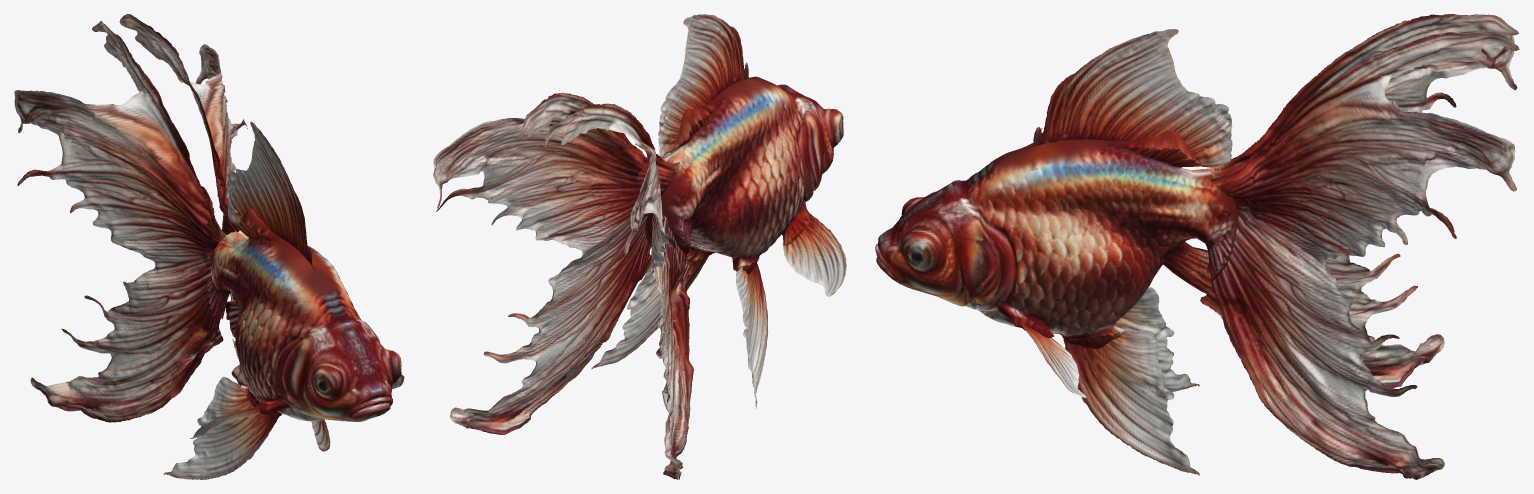
Rendered from goldfish-mouth.glb.
3 renders of one model, left to right at view 1: azimuth 30°, elevation 25°; view 2: azimuth 150°, elevation 25°; view 3: azimuth 270°, elevation 25°, orthographic. The views are drawn at different scales.
Parts seen in each view (by area): view 1: mesh_0; view 2: mesh_0; view 3: mesh_0.
Part boxes in pixels (box(x1,y1,x2,y2)): mesh_0: box(14, 14, 404, 479); mesh_0: box(433, 14, 846, 479); mesh_0: box(875, 14, 1519, 479).
Size of the model in its own units: 0.9213 by 1.33 by 1.9.
1 material, 1 textured.
